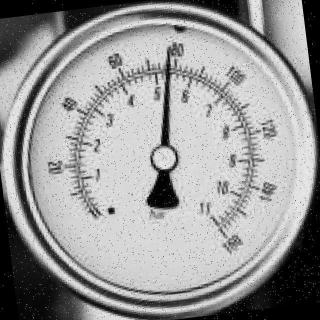gauge: (0, 0, 320, 320), (184, 195, 246, 261), (78, 193, 118, 237), (146, 139, 182, 177), (163, 43, 173, 57)
